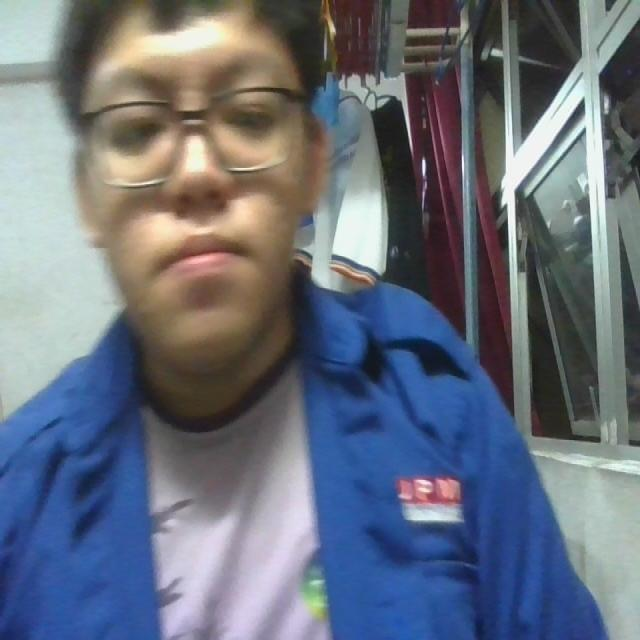person_with_labcoat: (0, 0, 605, 639)
